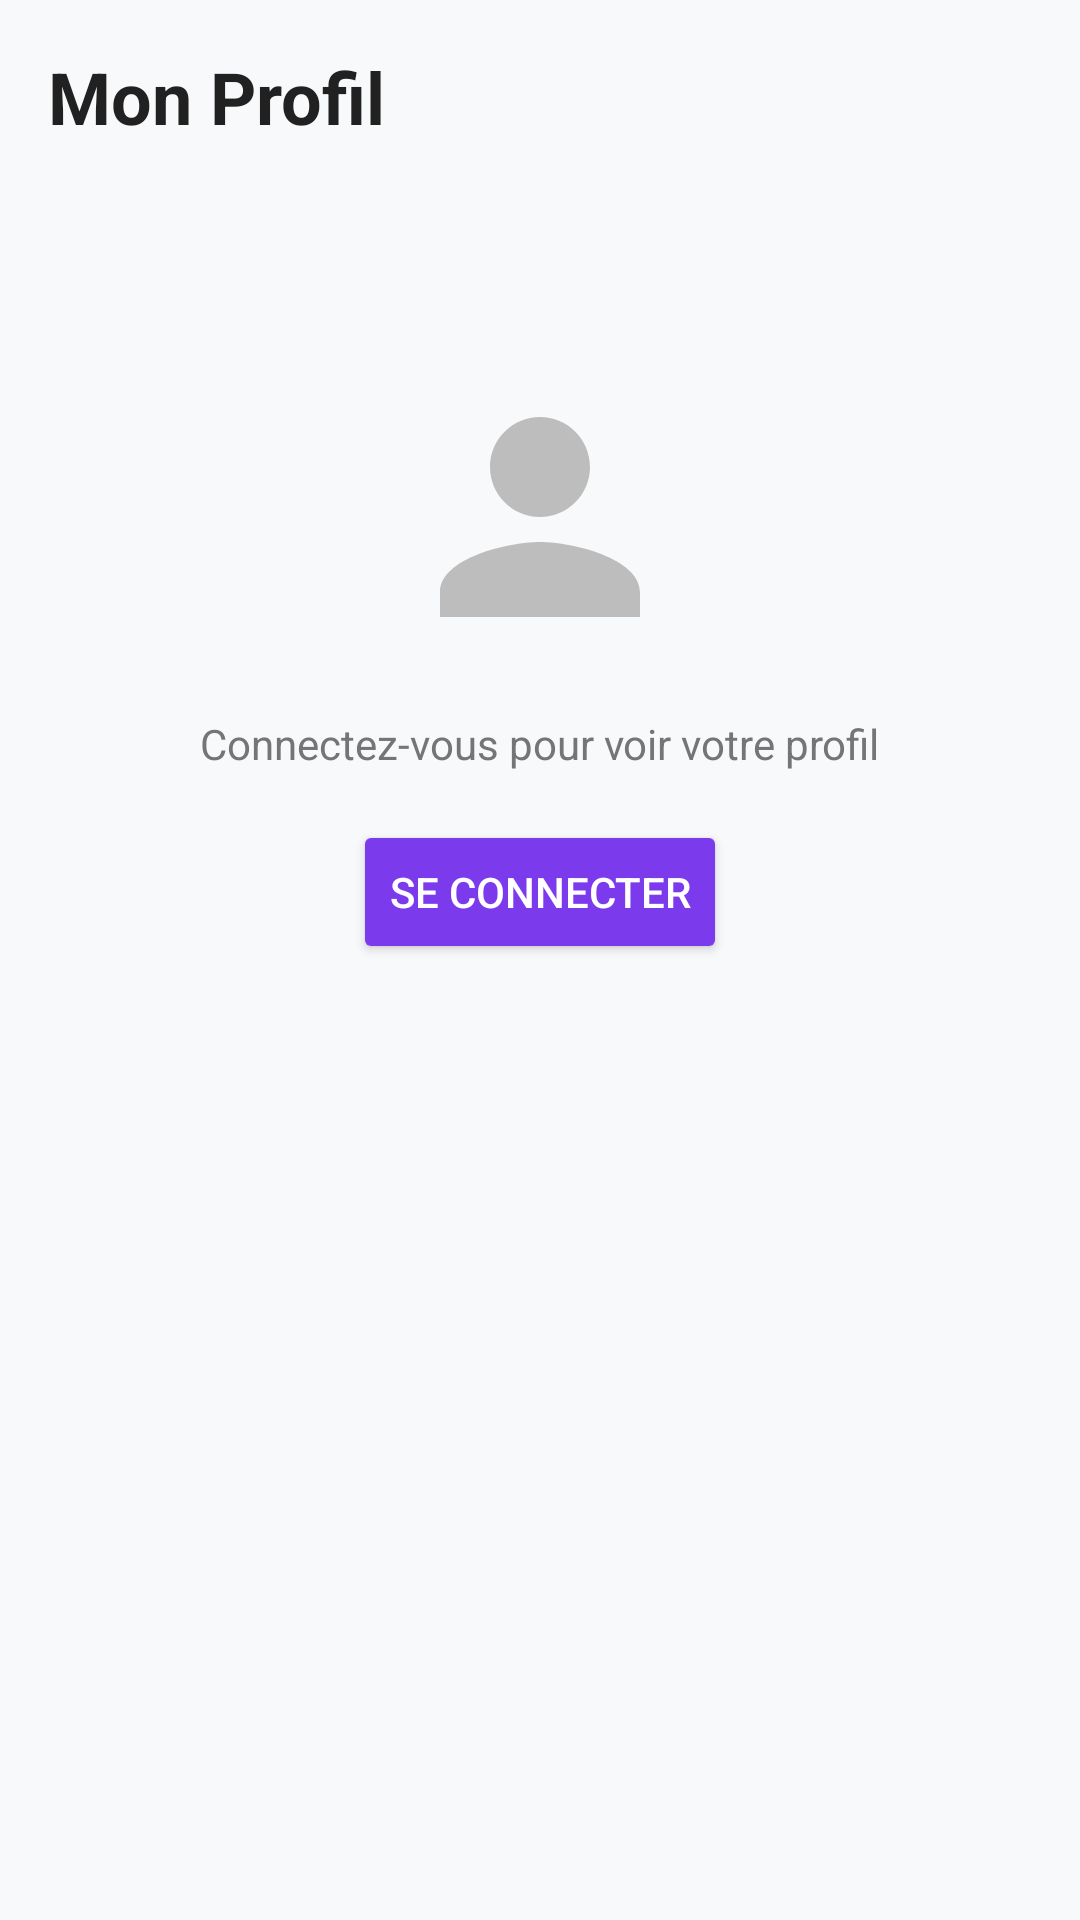

Where icons sit on this 1080*1920 app screen, as bbox(x1, y1, x2, y2):
person: bbox(440, 417, 640, 617)
